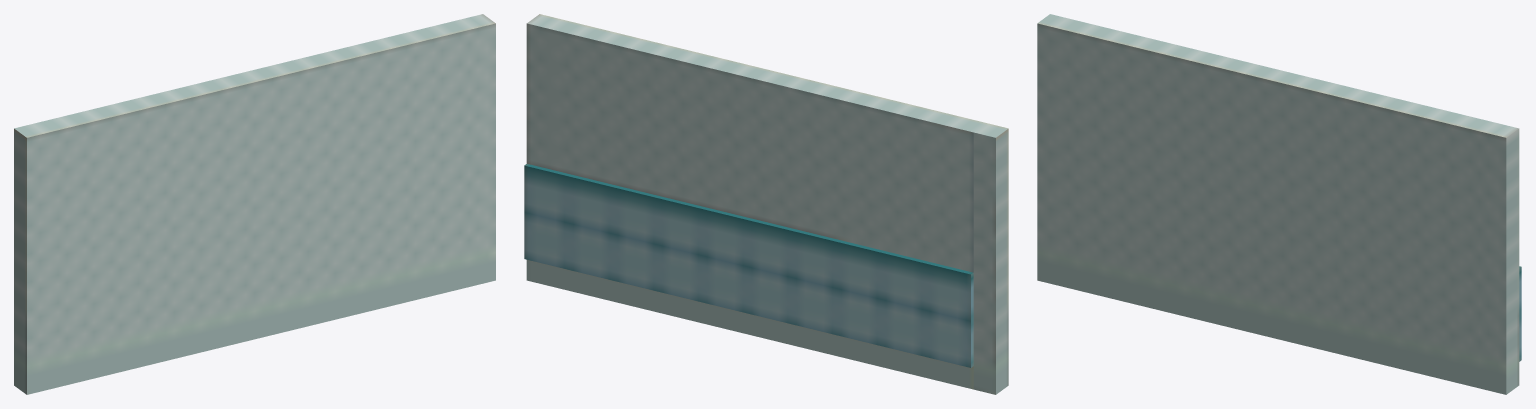
The model's file is WallpaperLightBlueWithTilesSide_00.fbx.
The picture shows the model from 3 angles, left to right: view 1: azimuth 30°, elevation 25°; view 2: azimuth 150°, elevation 25°; view 3: azimuth 330°, elevation 25°; orthographic projection.
Parts seen in each view (by area): view 1: WallpaperLightBlueWithTilesSide_00; view 2: WallpaperLightBlueWithTilesSide_00; view 3: WallpaperLightBlueWithTilesSide_00.
Boxes of the visible parts, x1,y1,x2,y2 form: WallpaperLightBlueWithTilesSide_00: (14,14,495,394); WallpaperLightBlueWithTilesSide_00: (524,14,1008,394); WallpaperLightBlueWithTilesSide_00: (1037,14,1521,394).
Bounding box in the file's own units: 525 × 30 × 275.
1 material, 1 textured.
